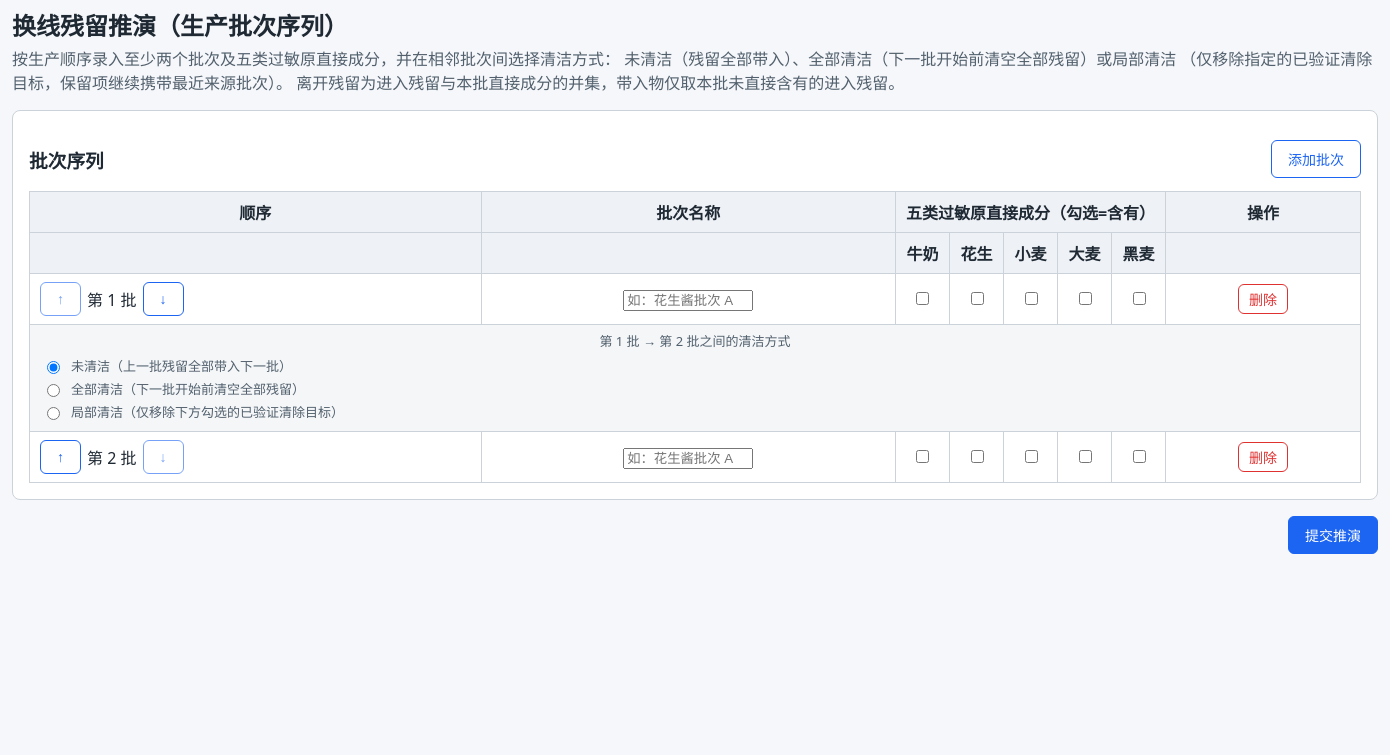
Test: 换线残留推演：提交与逐批结果 › 请求体按生产顺序携带五个布尔直接成分字段
Step 1. Type "A批" into the field with test id "co-batch-0-name" → (688, 300), box [623, 290, 753, 311]
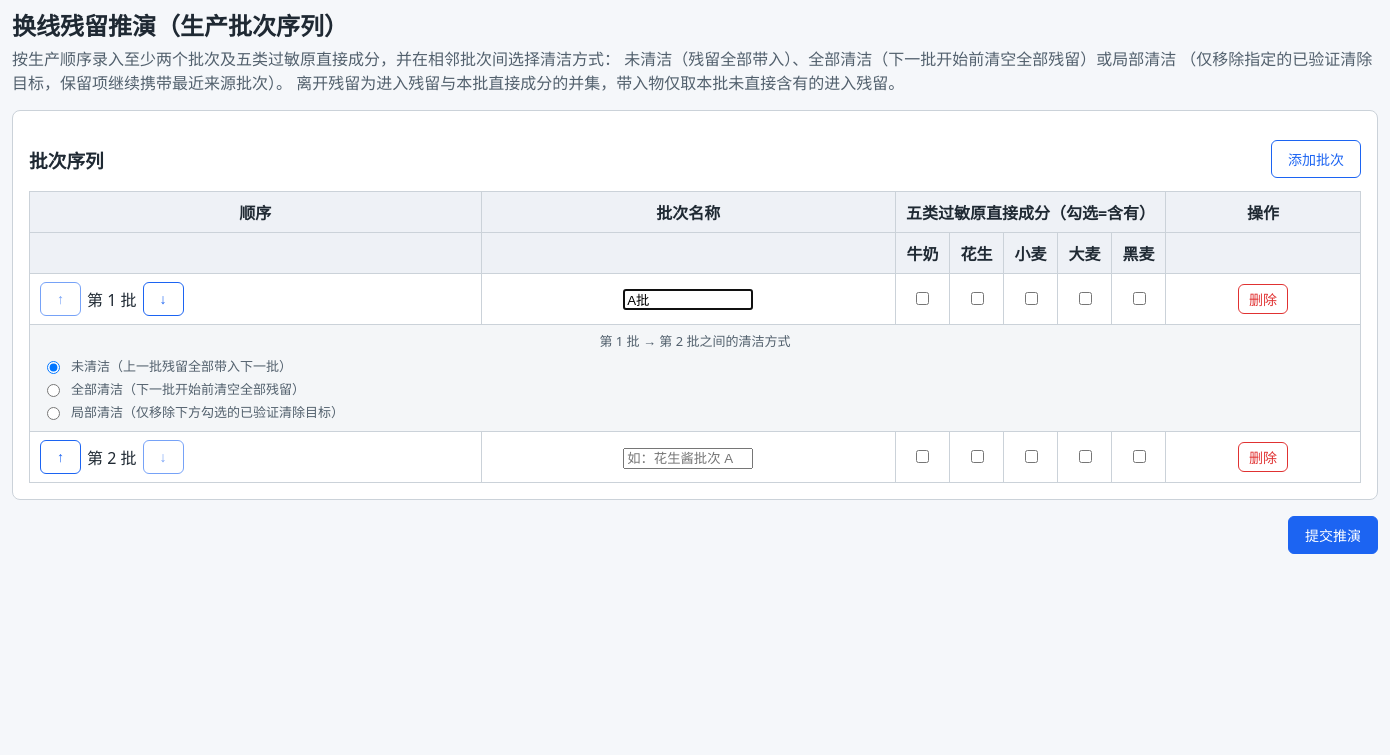
Step 2. Click the checkbox with test id "co-batch-0-contains-barley" → (1085, 299), box [1079, 292, 1092, 305]
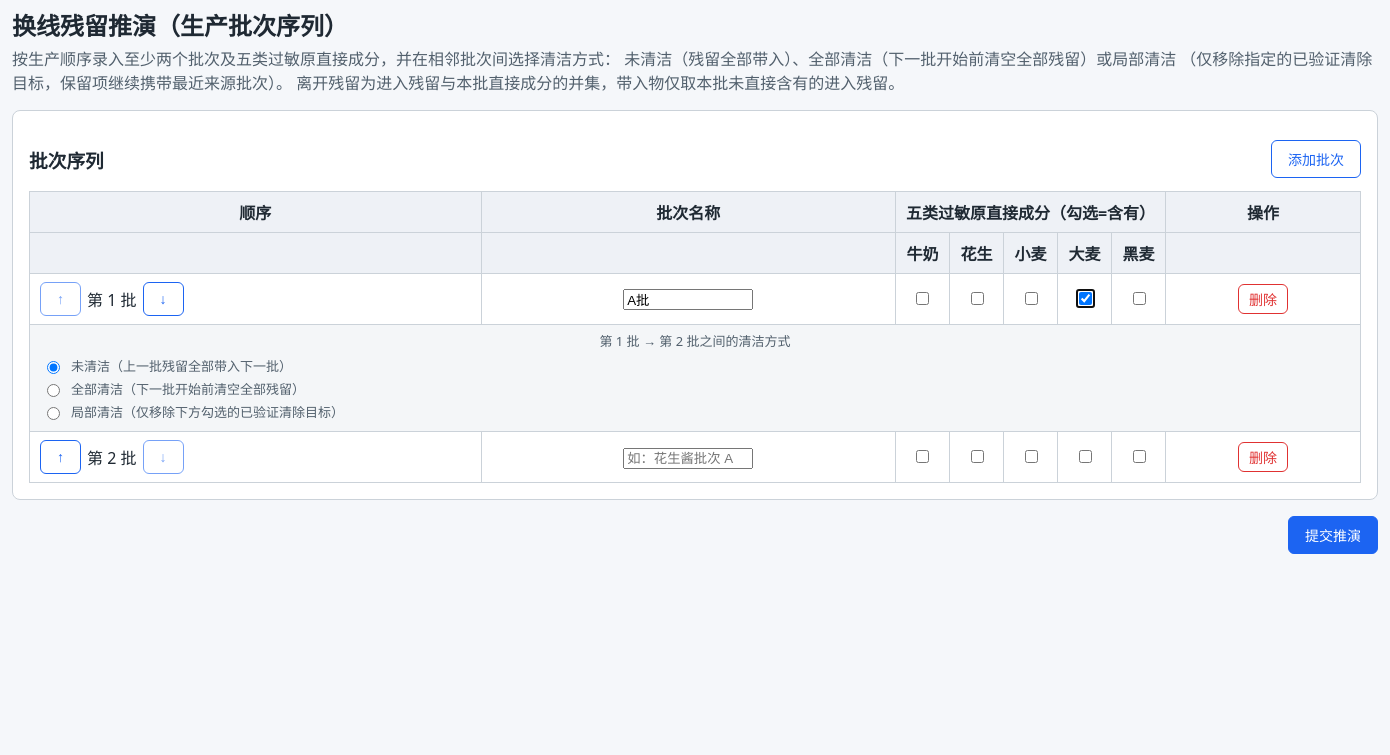
Step 3. Type "B批" into the field with test id "co-batch-1-name" → (688, 458), box [623, 448, 753, 469]
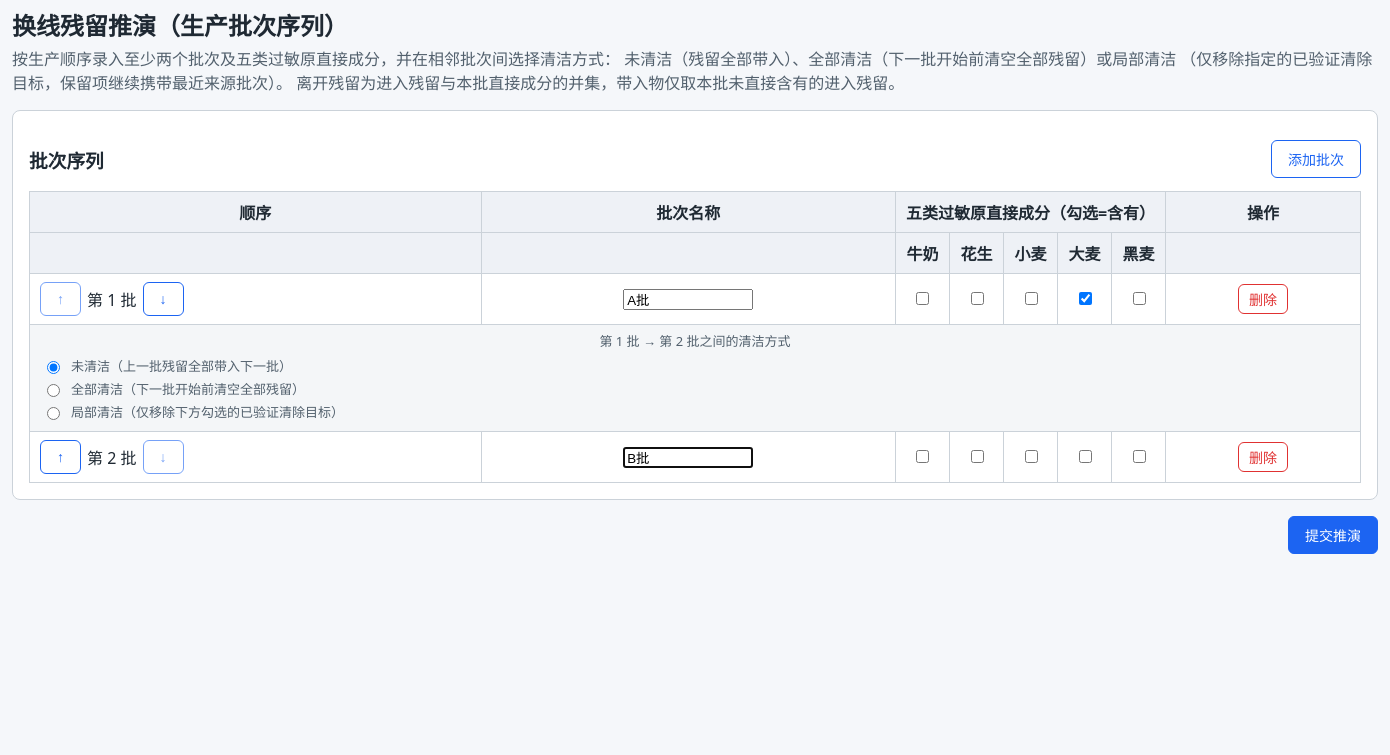
Step 4. Click the button with test id "co-submit" → (1333, 535), box [1288, 516, 1378, 554]
(page scrolled)
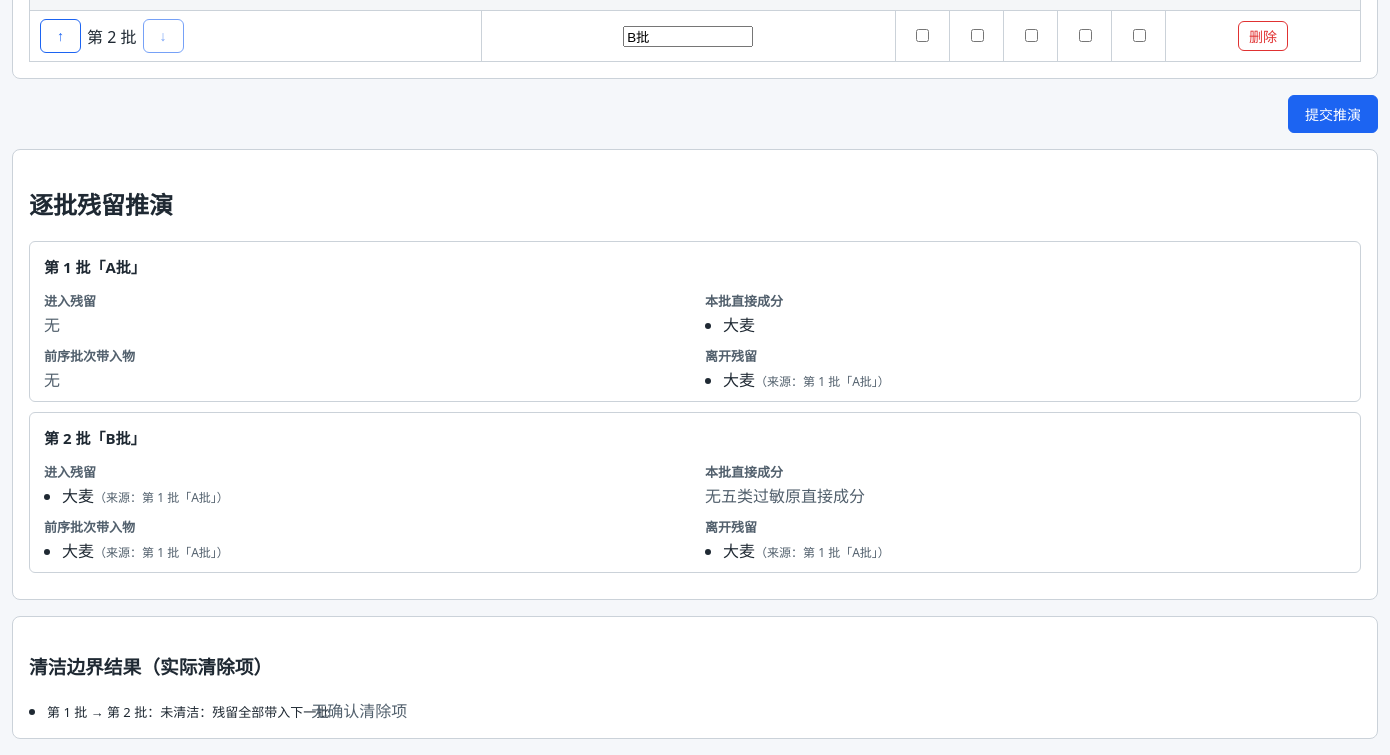
Result: the element with test id "co-result" is shown at [12, 149, 1378, 600]
